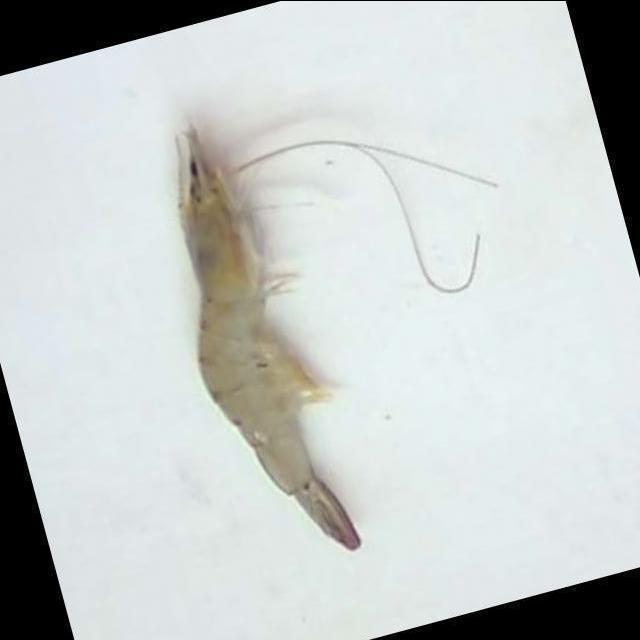shrimp: (175, 128, 360, 549)
